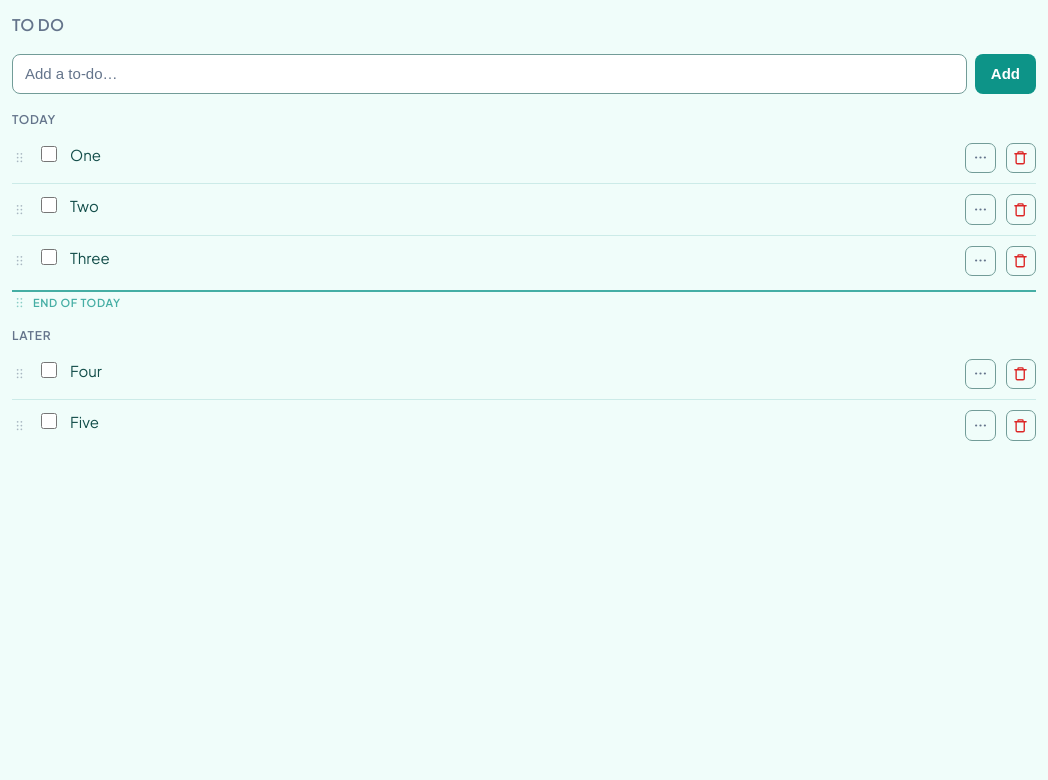
Test: TodoSection — move a to-do across the Today line (50-B) › the action names the side the item is going to
This screenshot has width=1048, height=780.
Expected: the button "One" is shown, 70,143 -> 955,167
Click the button named "Actions for \"One\"".
click(980, 158)  # box 965,143 -> 996,173
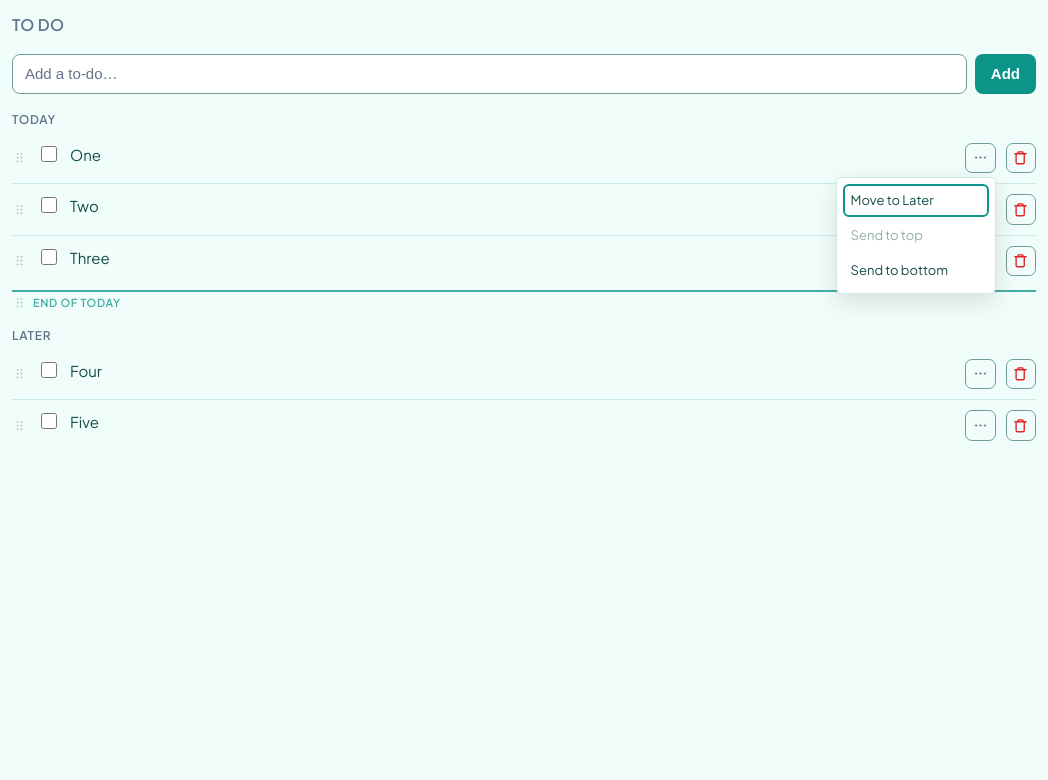
Expected: the menu item "Move to Later" is shown, 843,184 -> 989,217
Press Escape
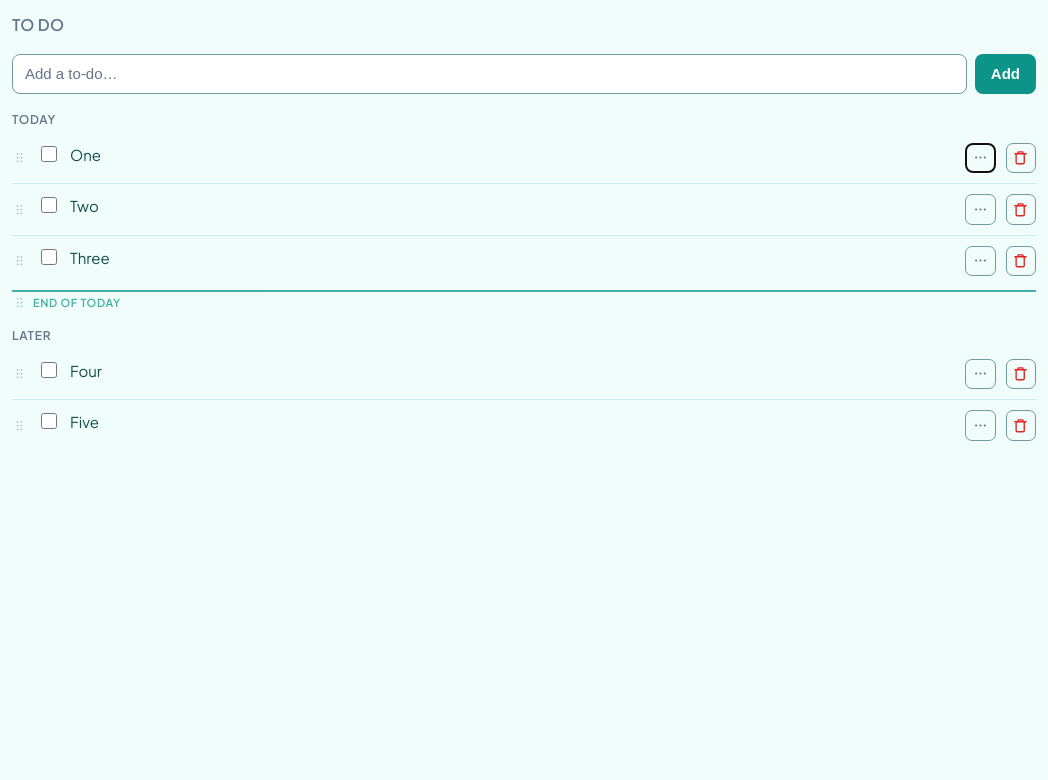
Click the button named "Actions for \"Five\"".
click(980, 425)  # box 965,410 -> 996,440
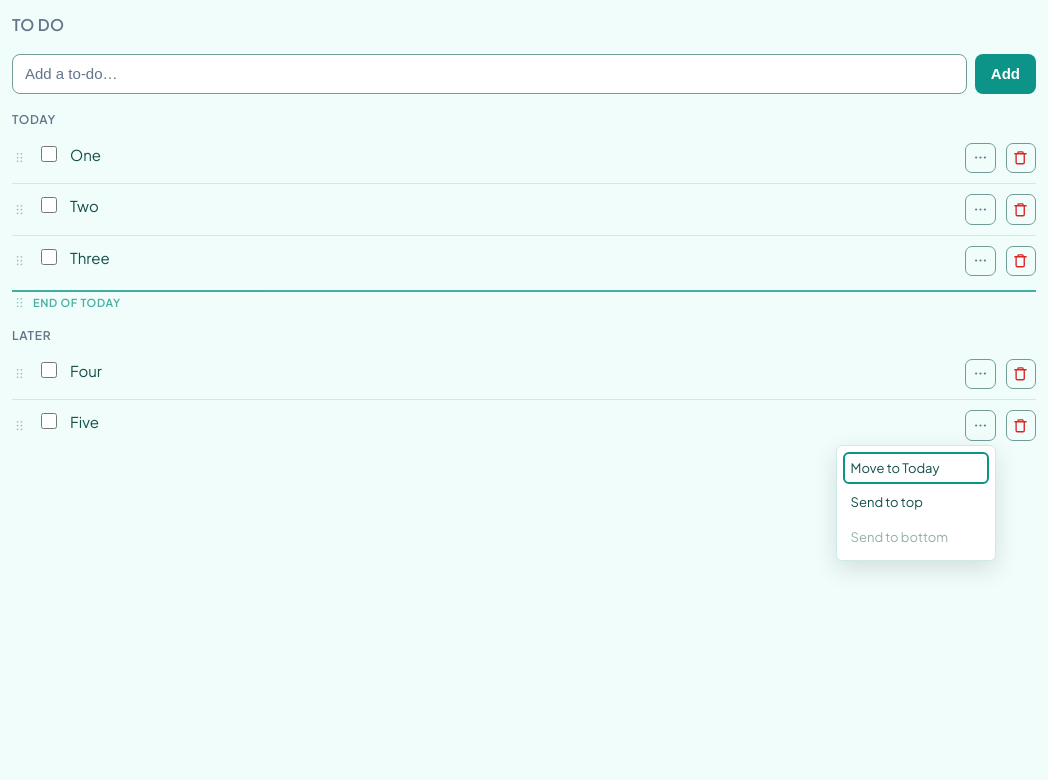
Expected: the menu item "Move to Today" is shown, 843,452 -> 989,484
